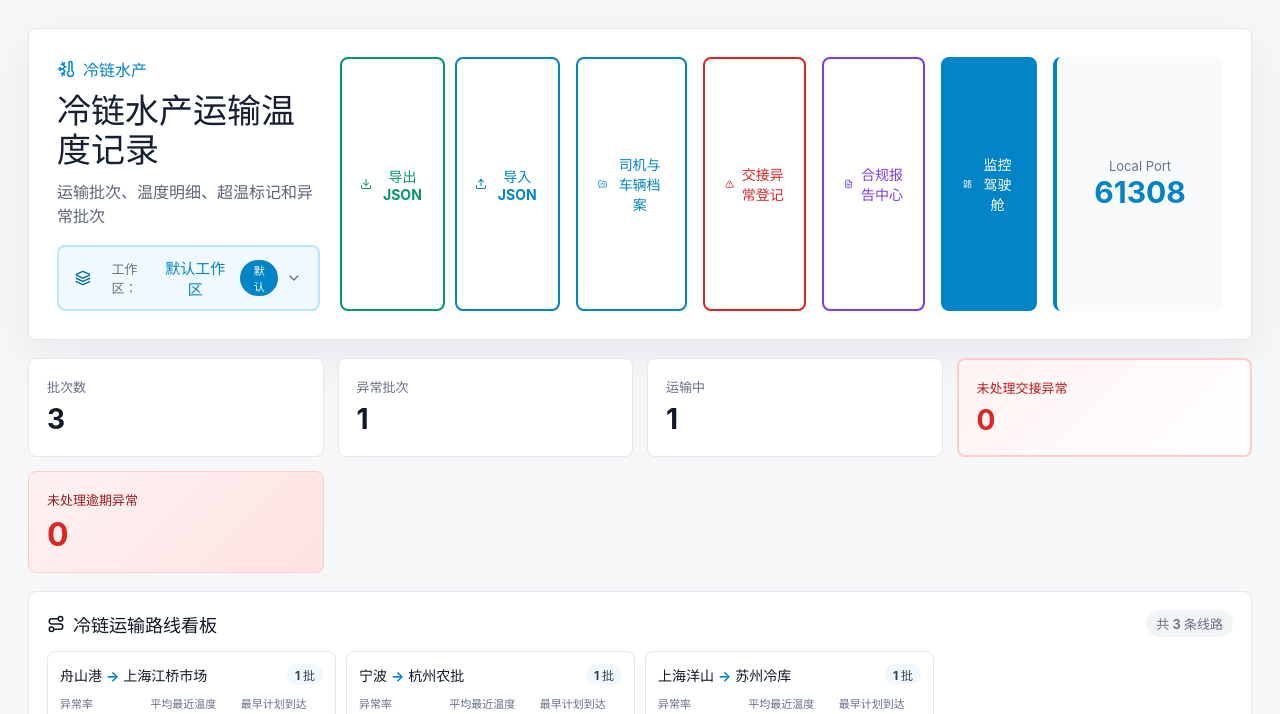
Test: App 冒烟测试 - 核心页面路径 › 工作区切换 › 新建工作区并出现在列表中
The width and height of the screenshot is (1280, 714).
Step 1. Click the button "工作区： 默认工作区 默认" → (188, 278), box x1=57 y1=245 x2=320 y2=311
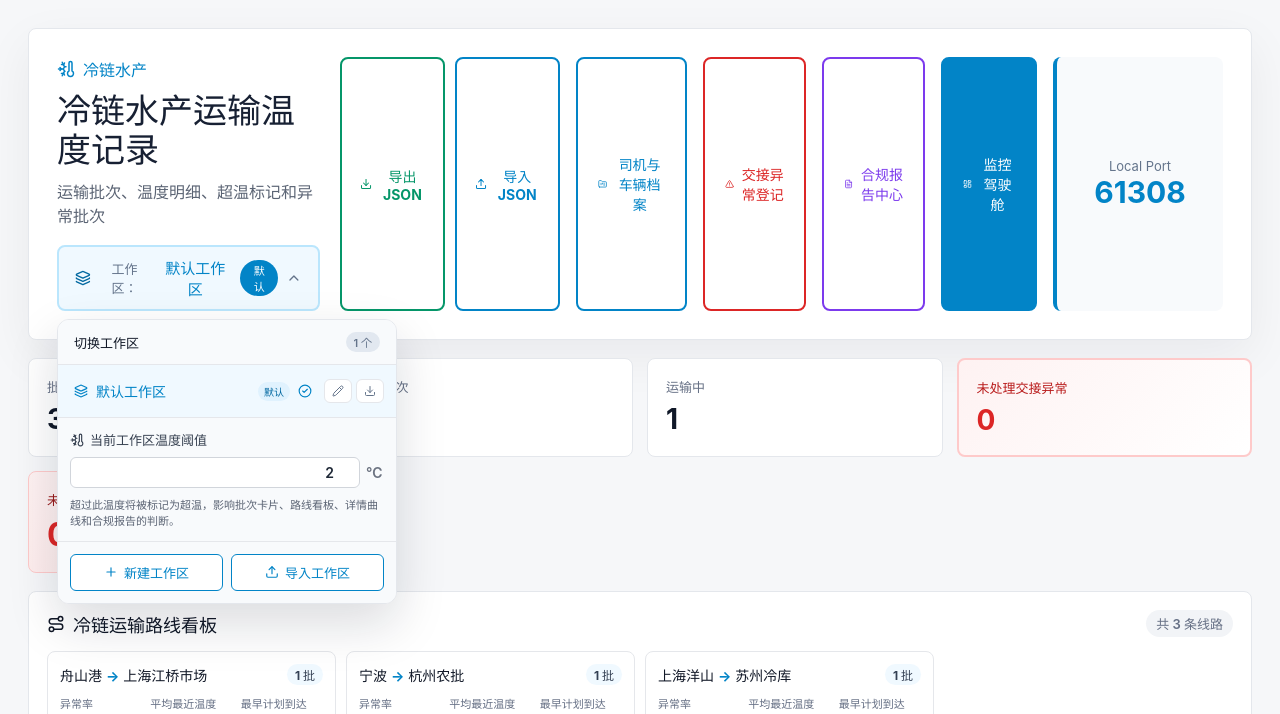
Step 2. Click the button "新建工作区" → (146, 572), box x1=70 y1=554 x2=223 y2=591
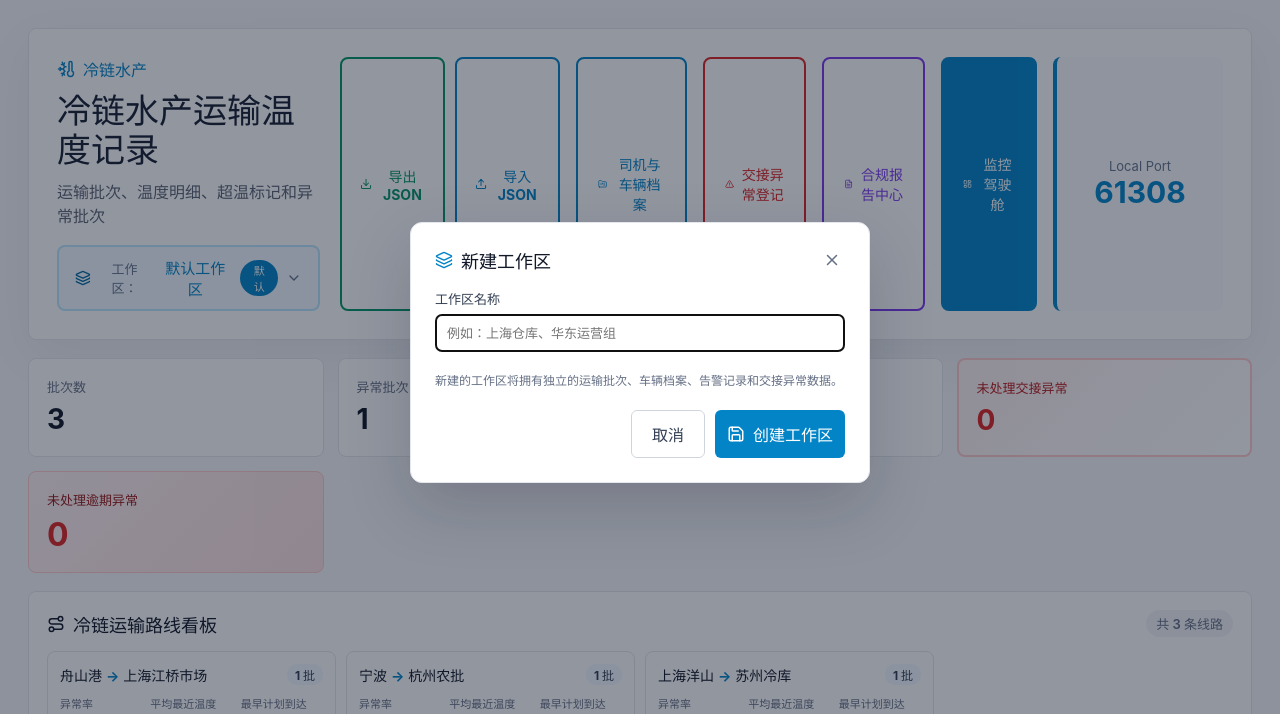
Step 3. Type "测试工作区B" into the field with placeholder "例如：上海仓库、华东运营组" → (640, 332), box x1=435 y1=314 x2=845 y2=352
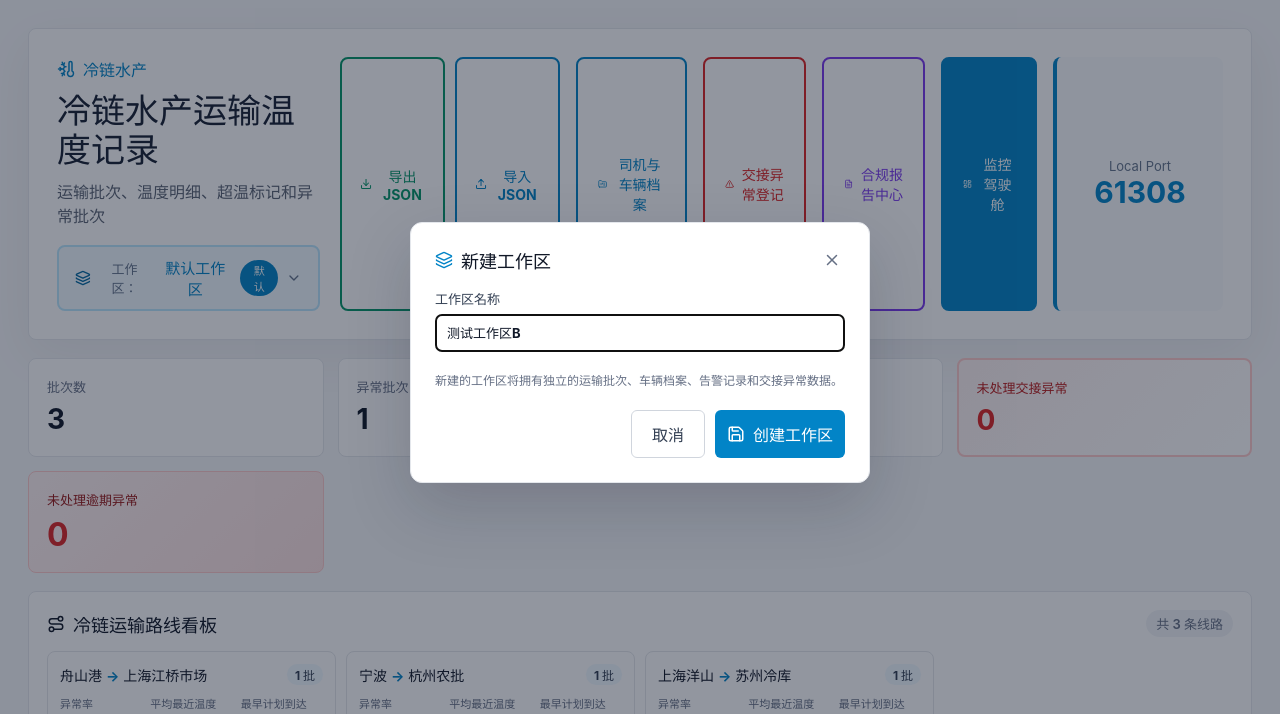
Step 4. Submit the form with placeholder "例如：上海仓库、华东运营组", box x1=410 y1=222 x2=870 y2=482
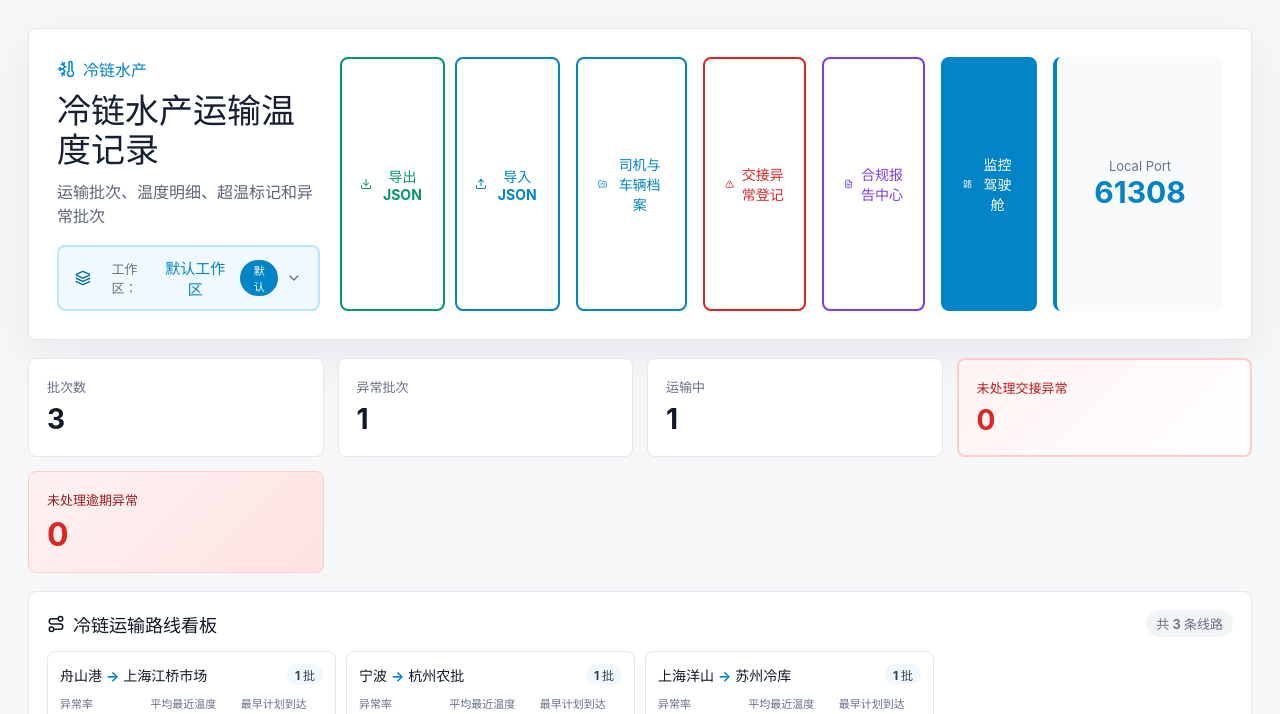
Step 5. Click the button "工作区： 默认工作区 默认" → (188, 278), box x1=57 y1=245 x2=320 y2=311
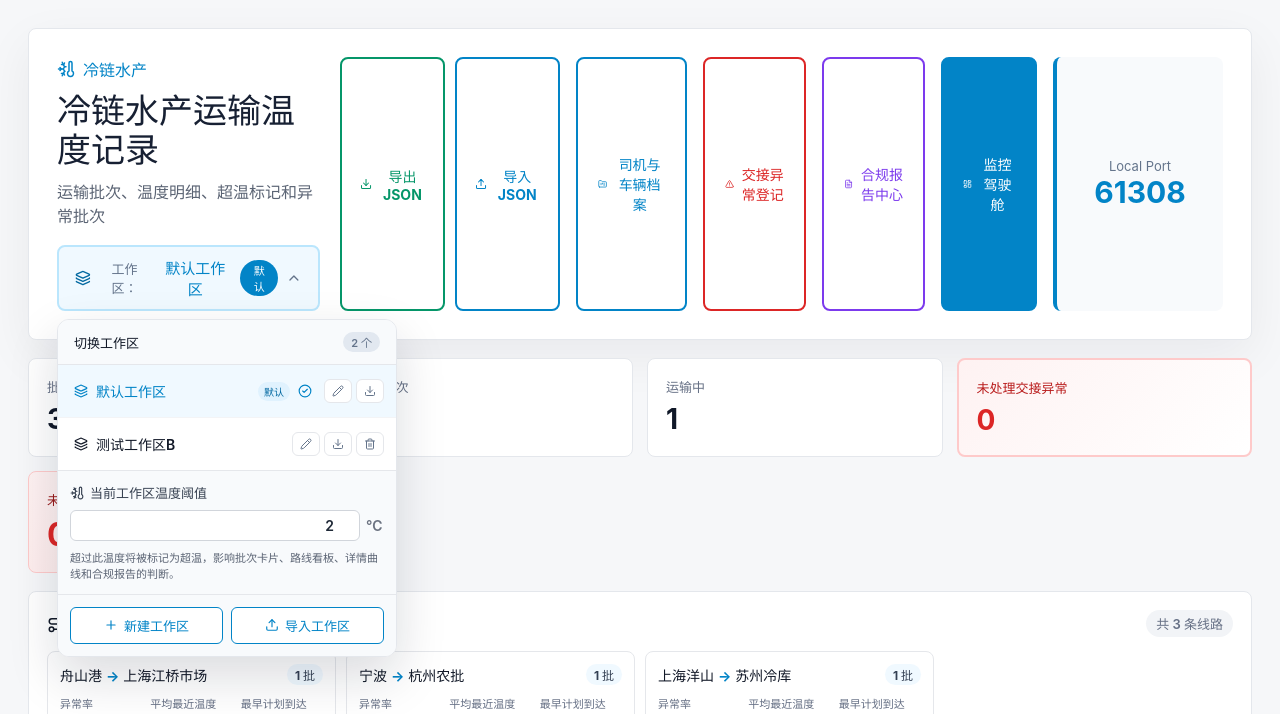
Result: the text "测试工作区B" is shown at x1=96 y1=436 x2=175 y2=453
